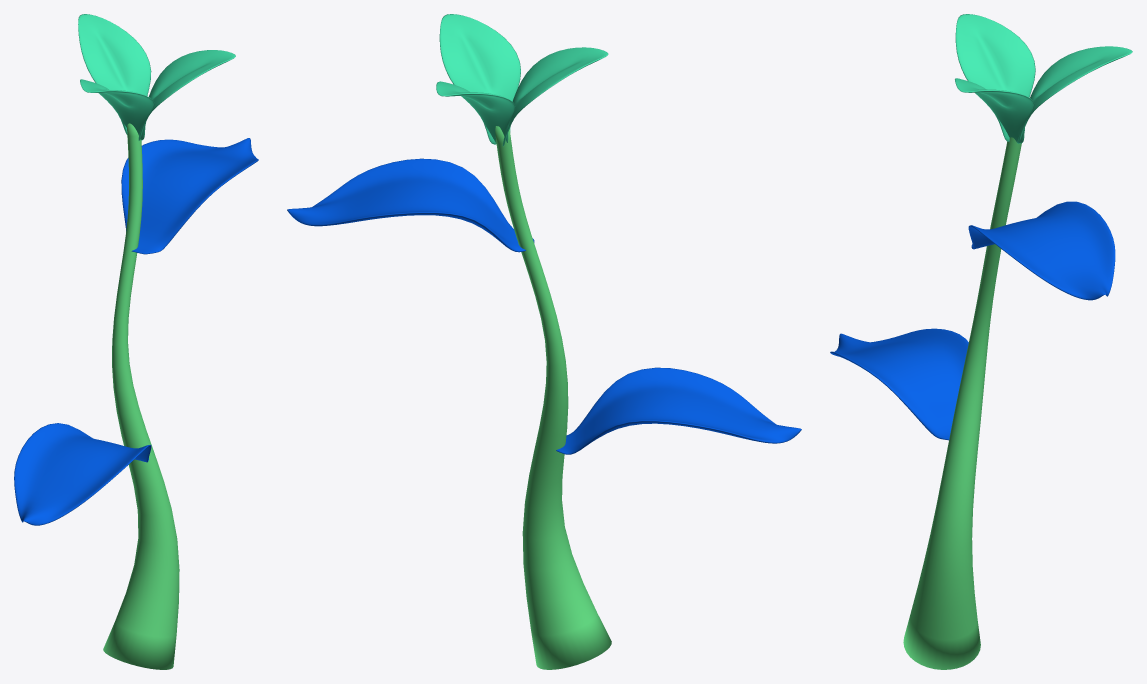
File: RainPlant#3.fbx
3 renders of one model, left to right at view 1: azimuth 30°, elevation 25°; view 2: azimuth 150°, elevation 25°; view 3: azimuth 270°, elevation 25°, orthographic. The views are drawn at different scales.
Parts seen in each view (by area): view 1: Vert.005, Plane.006, Plane.003, Plane.001, Plane.008, Plane.009; view 2: Vert.005, Plane.006, Plane.003, Plane.008, Plane.009, Plane.001; view 3: Vert.005, Plane.003, Plane.006, Plane.009, Plane.001, Plane.008.
Boxes of the visible parts, bbox=[...] form: Vert.005: bbox=[103, 123, 179, 669]; Plane.006: bbox=[14, 423, 151, 525]; Plane.003: bbox=[121, 138, 258, 254]; Plane.001: bbox=[78, 14, 151, 134]; Plane.008: bbox=[138, 50, 235, 140]; Plane.009: bbox=[80, 79, 154, 140]; Vert.005: bbox=[495, 126, 611, 669]; Plane.006: bbox=[556, 367, 801, 454]; Plane.003: bbox=[287, 158, 534, 252]; Plane.008: bbox=[439, 14, 520, 144]; Plane.009: bbox=[502, 47, 608, 146]; Plane.001: bbox=[436, 81, 515, 143]; Vert.005: bbox=[903, 137, 1021, 669]; Plane.003: bbox=[968, 201, 1115, 300]; Plane.006: bbox=[830, 328, 968, 440]; Plane.009: bbox=[955, 14, 1035, 141]; Plane.001: bbox=[1017, 46, 1132, 143]; Plane.008: bbox=[955, 78, 1034, 143].
Size of the model in its own units: 400 by 633 by 280.
